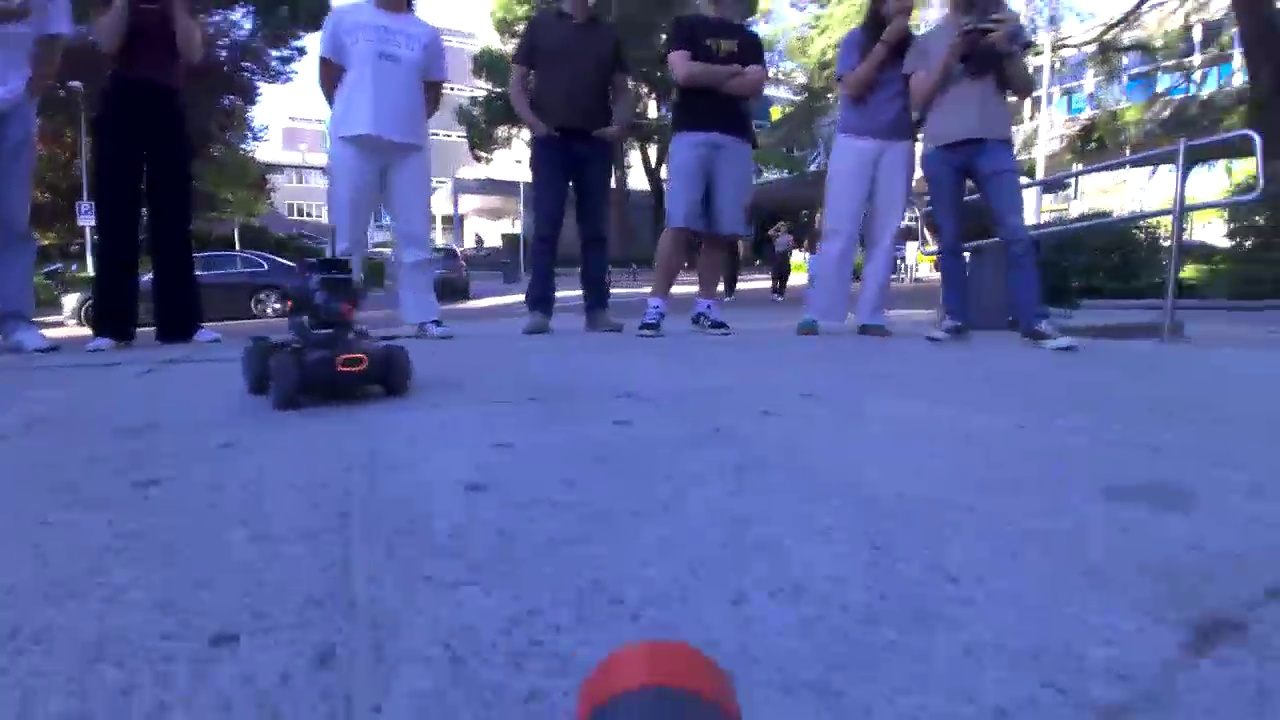robot: (238, 263, 423, 418)
